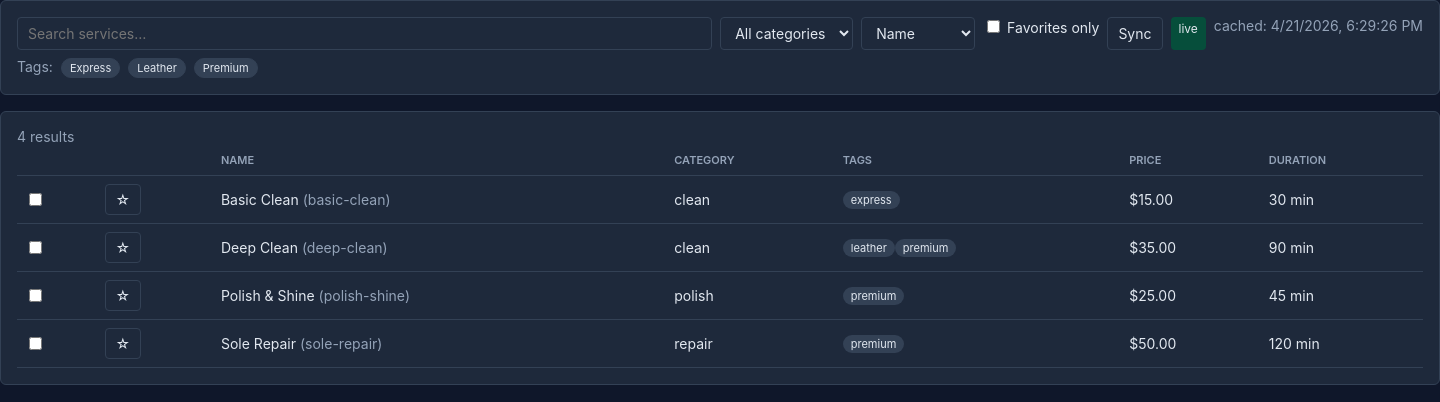
Scenario: catalog filters › combines search, category, and tag filters
Check: the row with test id "svc-row-basic-clean" is shown, box [17,176,1423,224]
Select "Cleaning" in the dropdown named "category-filter" at coordinates (787, 34), box [720,17,853,50]
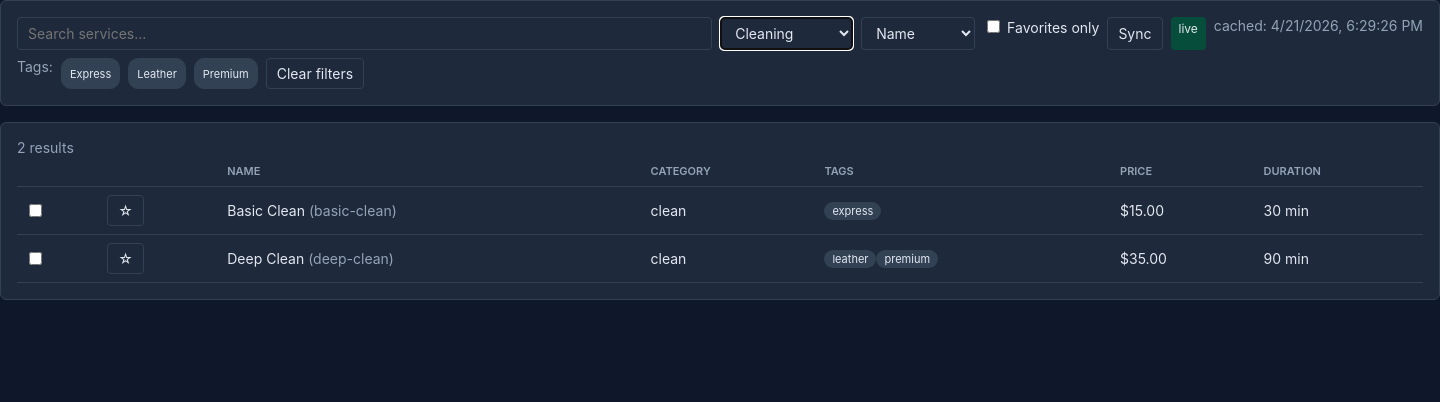
Click the button with test id "tag-leather".
click(157, 74)  # box [128,58,186,89]
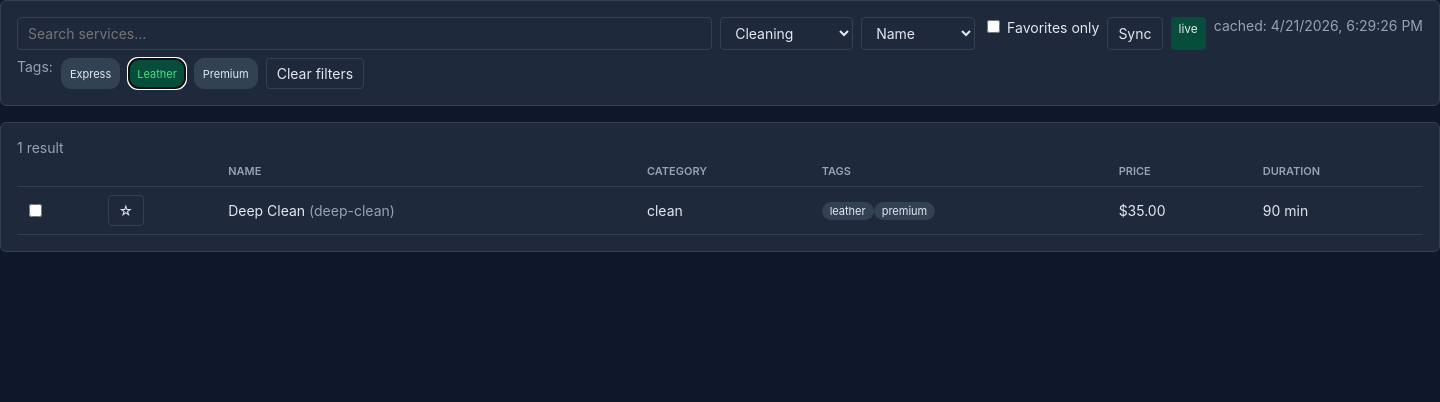
Check: the row with test id "svc-row-deep-clean" is shown, box [17,186,1423,234]
Check: the row with test id "svc-row-basic-clean" is gone
Type "nomatch" into the field labelled "Search services…".
click(365, 34); type("nomatch")  # box [17,17,712,50]
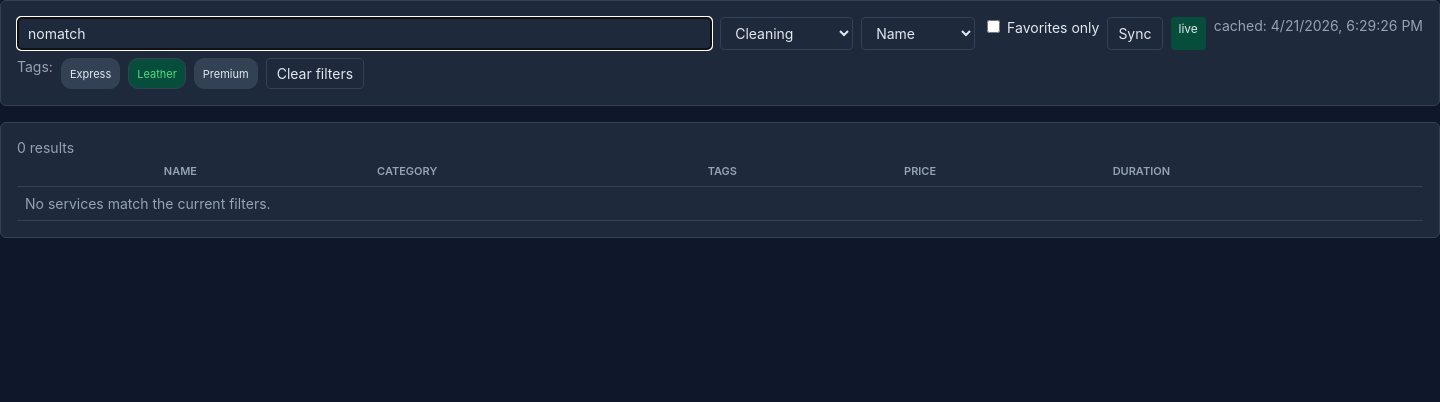
Check: the row with test id "svc-row-deep-clean" is gone
